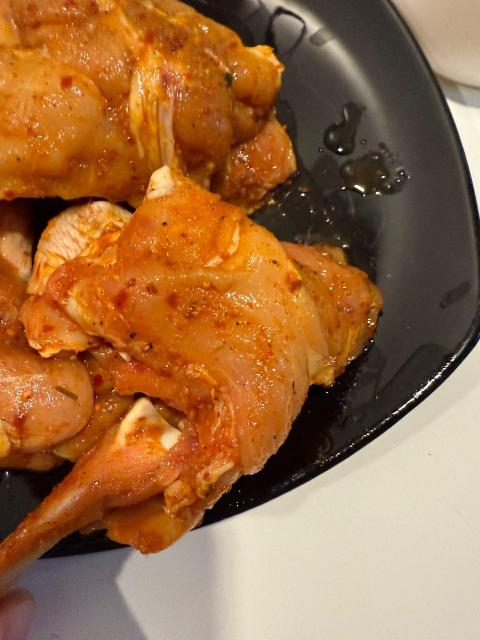Organik: (0, 184, 368, 464), (0, 0, 306, 192), (0, 405, 186, 598)
